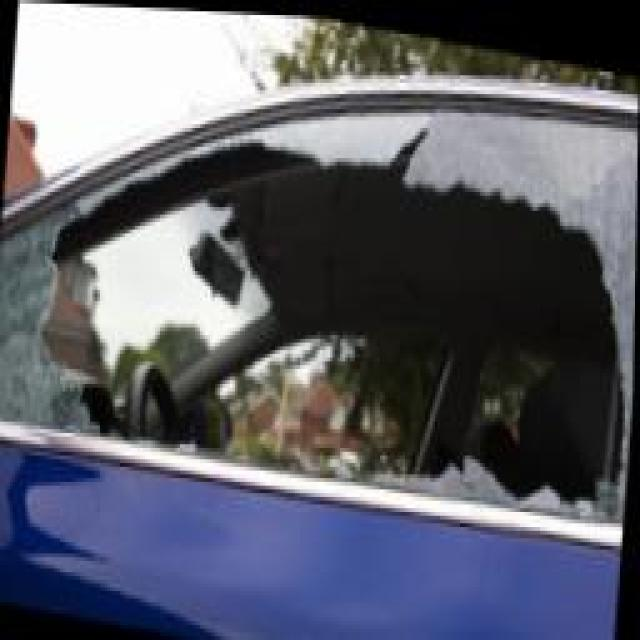Door: (5, 72, 640, 555)
